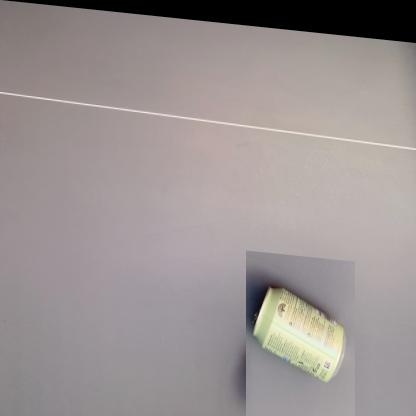trash: (253, 287, 343, 382)
